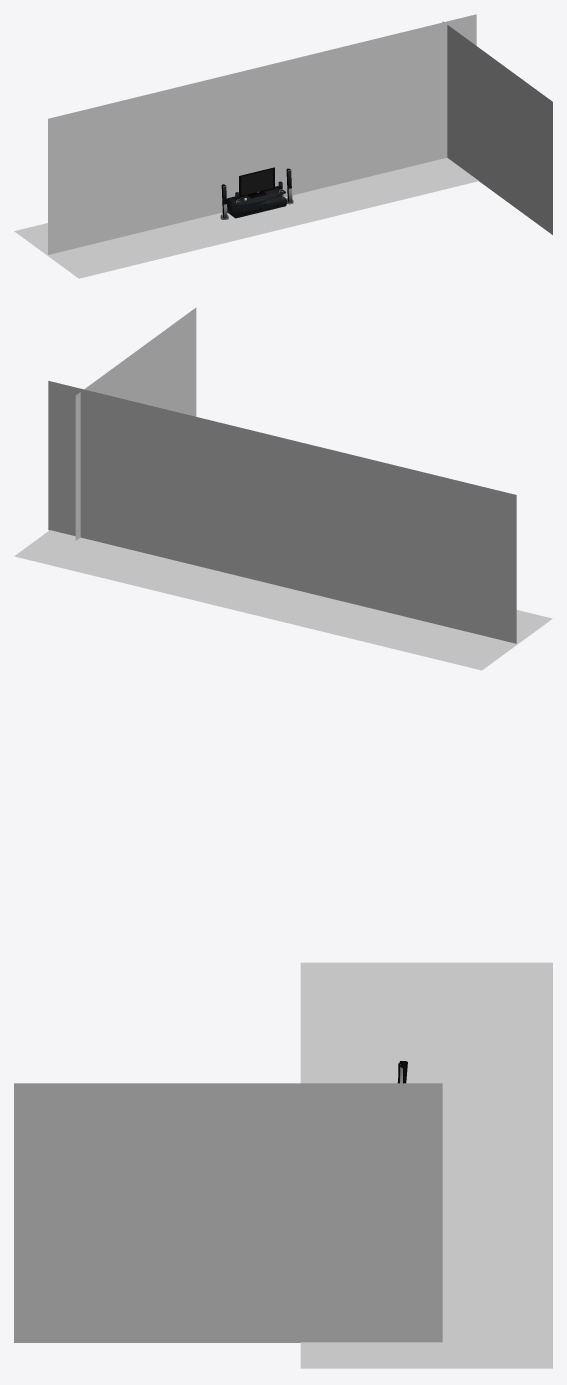
File: home_theater_.obj
The picture shows the model from 3 angles, top to bottom: view 1: azimuth 30°, elevation 25°; view 2: azimuth 150°, elevation 25°; view 3: azimuth 270°, elevation 25°; orthographic projection. The views are drawn at different scales.
Parts seen in each view (by area): view 1: Plane03, Line02, Line03; view 2: Plane03; view 3: Plane03.
Boxes of the visible parts, x1,y1,x2,y2 form: Plane03: (14, 14, 552, 278); Line02: (227, 186, 286, 218); Line03: (239, 167, 274, 198); Plane03: (14, 307, 552, 670); Plane03: (14, 962, 552, 1368).
Bounding box in the file's own units: 121 × 36.67 × 67.47.
